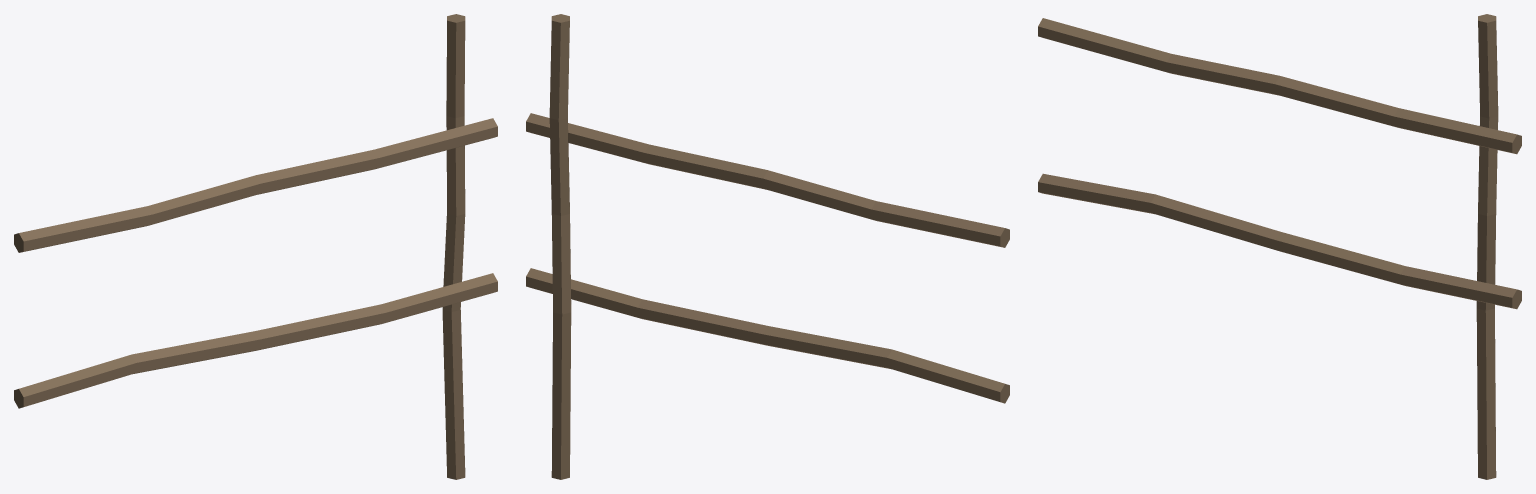
The model's file is fence_a_1m_01.FBX.
The picture shows the model from 3 angles, left to right: view 1: azimuth 30°, elevation 25°; view 2: azimuth 150°, elevation 25°; view 3: azimuth 330°, elevation 25°; orthographic projection.
Visible parts, largest first — view 1: fence_a_1m_01; view 2: fence_a_1m_01; view 3: fence_a_1m_01.
Part boxes in pixels (<box>): fence_a_1m_01: <box>14,14,497,479</box>; fence_a_1m_01: <box>526,14,1009,479</box>; fence_a_1m_01: <box>1038,14,1521,479</box>.
Bounding box in the file's own units: 1.16 × 1.07 × 0.0613.
